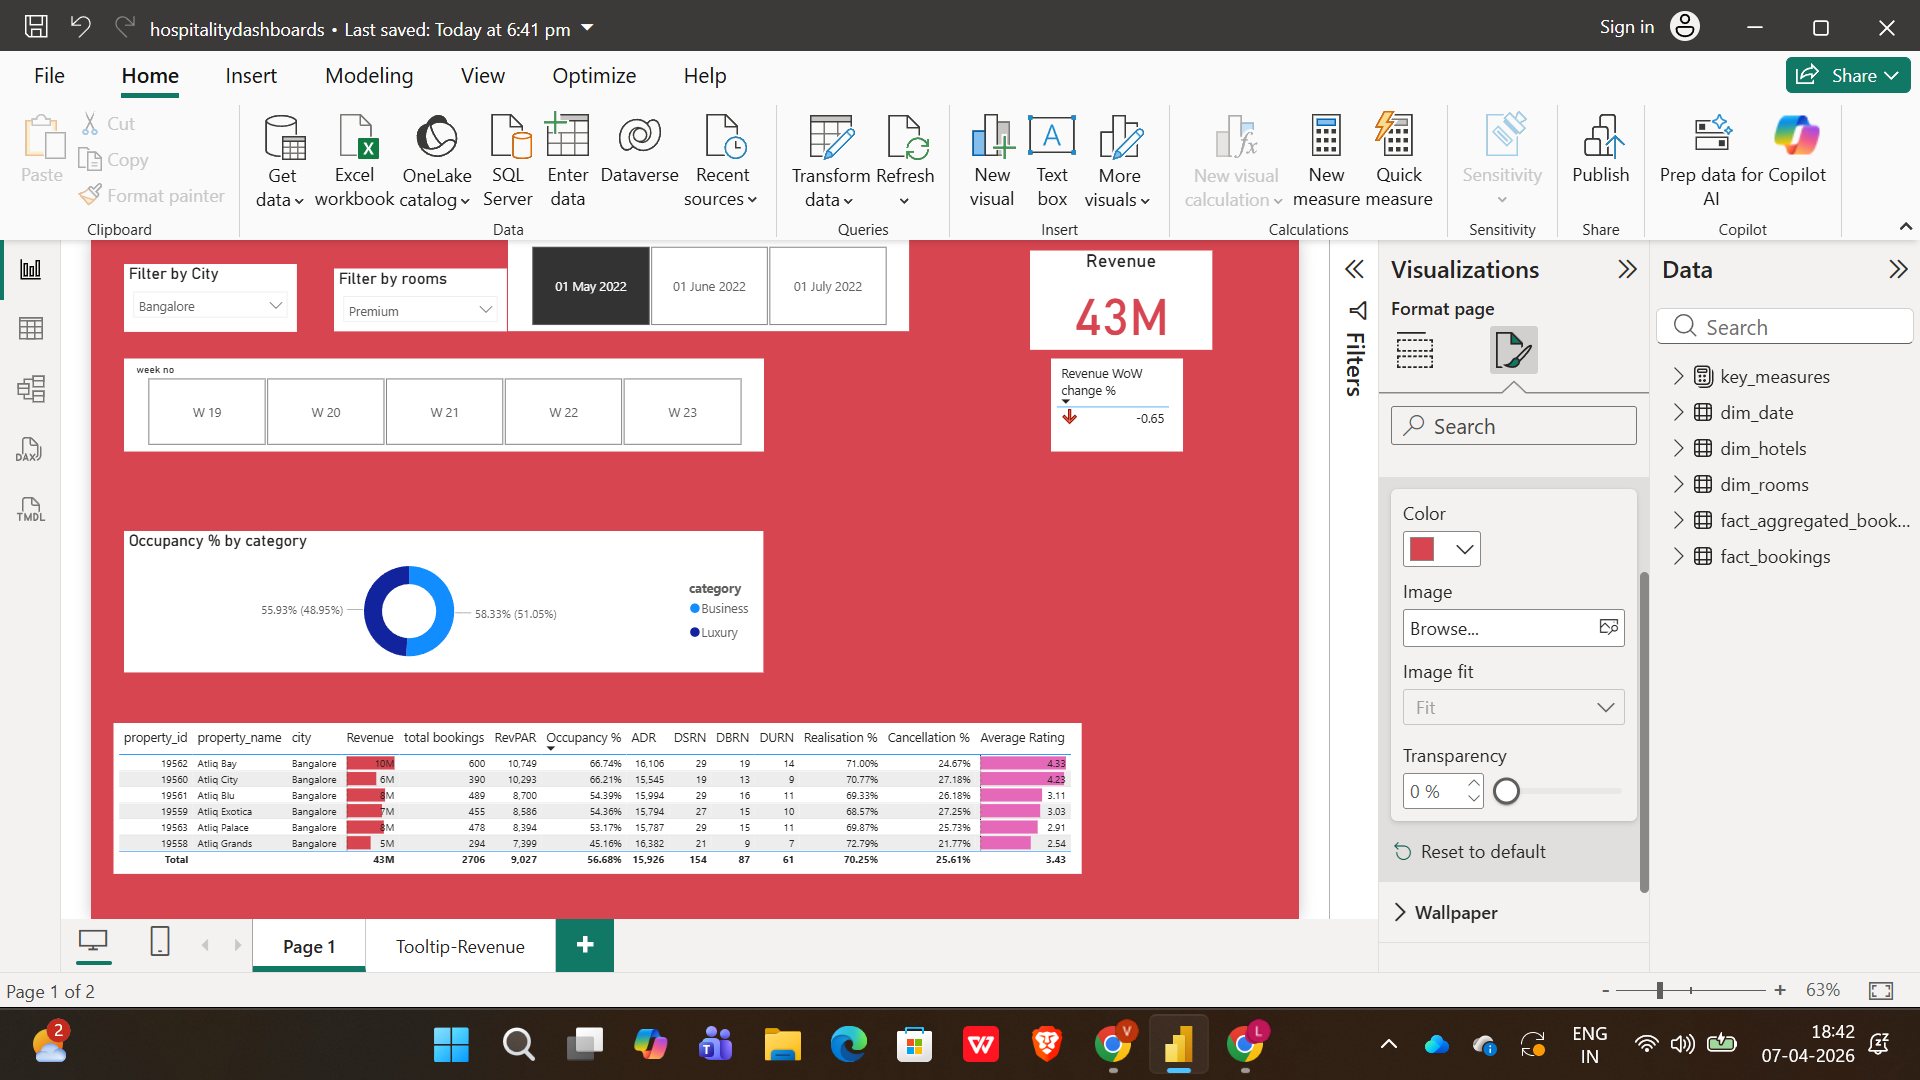

This screenshot's page, from the dashboard's own definition file:
{"tool":"powerbi","page":{"name":"Page 1","canvas":[1280,720],"ordinal":0},"visuals":[{"type":"tableEx","fields":{"Values":["dim_hotels.property_id","dim_hotels.property_name","dim_hotels.city","key_measures.Revenue","key_measures.total bookings","key_measures.RevPAR","key_measures.Occupancy %","key_measures.ADR","key_measures.DSRN","key_measures.DBRN","key_measures.DURN","key_measures.Realisation %"]},"box":[24.3,511.7,1026.6,160.3],"z":0},{"type":"slicer","title":"Filter by City","fields":{"Values":["dim_hotels.city"]},"box":[35,25,183.3,71.7],"z":1000},{"type":"slicer","title":"Filter by rooms","fields":{"Values":["dim_rooms.room_class"]},"box":[258.3,30,183.3,66.7],"z":2000},{"type":"slicer","fields":{"Values":["dim_date.mmm yy"]},"box":[441.7,0,425,96.7],"z":3000},{"type":"slicer","fields":{"Values":["dim_date.week no"]},"box":[35,125,678.3,98.3],"z":4000},{"type":"card","title":"Revenue","fields":{"Values":["key_measures.Revenue"]},"box":[995,11.7,193.3,105],"z":5000},{"type":"tableEx","fields":{"Values":["key_measures.Revenue WoW change %"]},"box":[1018.3,125,140,98.3],"z":6000},{"type":"donutChart","fields":{"Category":["dim_hotels.category"],"Y":["key_measures.Occupancy %"]},"box":[35,308.5,678,150],"z":7000}]}

Visuals, with their boxes on the page's 1280x720 design canvas (x1, y1, x2, y2). These are canvas units, not pixel positions in the 1920x1080 screenshot, which may show the page scaled, cropped or inside an application window:
tableEx - dim_hotels.property_id x dim_hotels.property_name: (24, 512, 1051, 672)
"Filter by City" slicer: (35, 25, 218, 97)
"Filter by rooms" slicer: (258, 30, 442, 97)
slicer - dim_date.mmm yy: (442, 0, 867, 97)
slicer - dim_date.week no: (35, 125, 713, 223)
"Revenue" card: (995, 12, 1188, 117)
tableEx - key_measures.Revenue WoW change %: (1018, 125, 1158, 223)
donutChart - dim_hotels.category x key_measures.Occupancy %: (35, 308, 713, 458)
